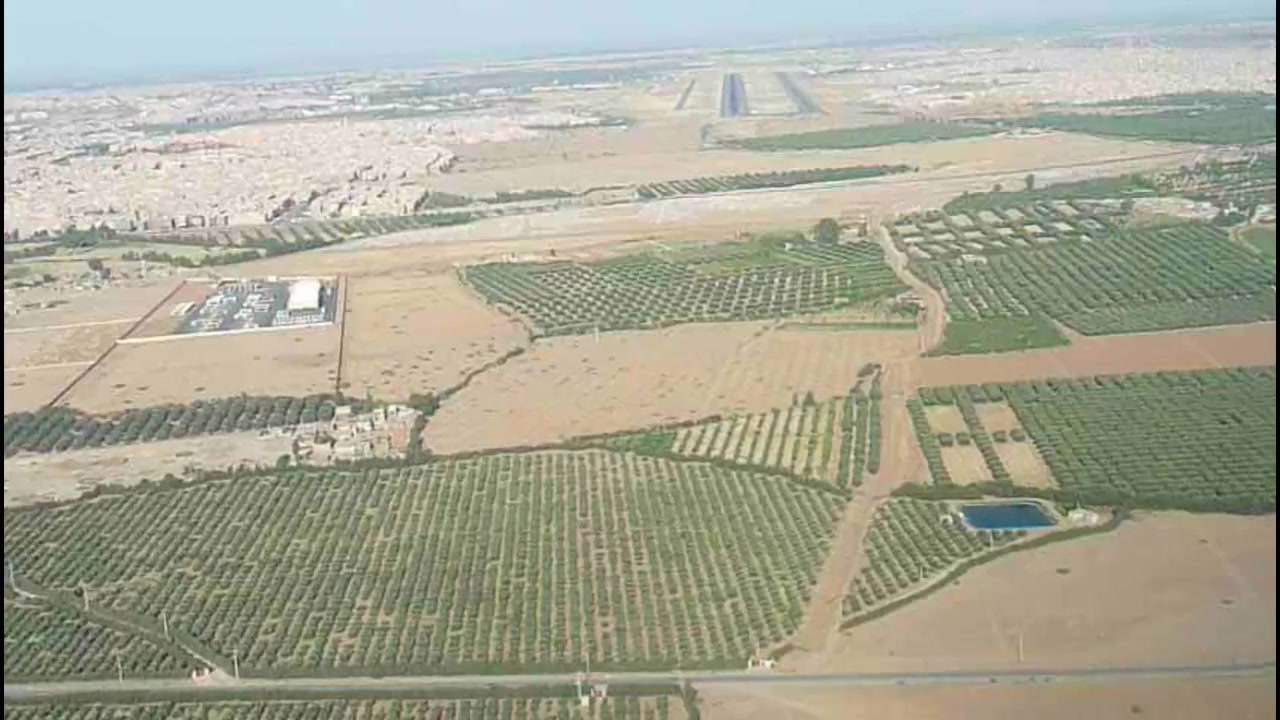runway: (713, 70, 752, 122)
